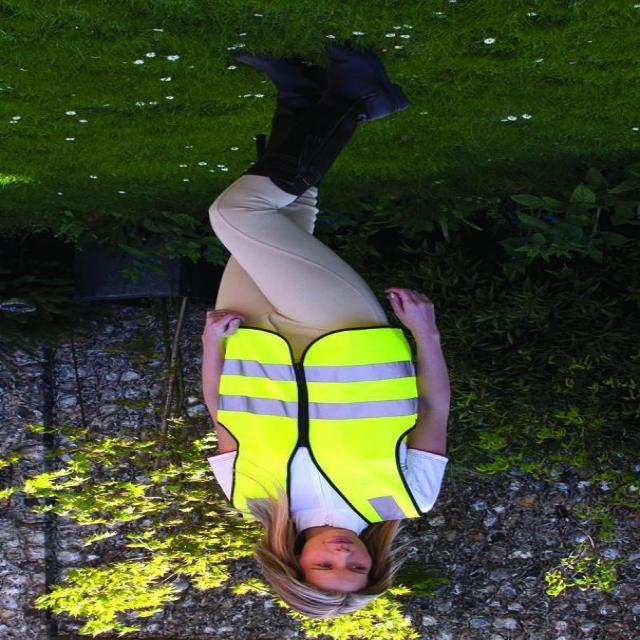Boots: (260, 53, 396, 178), (260, 57, 331, 162)
Vest: (216, 332, 415, 522)
